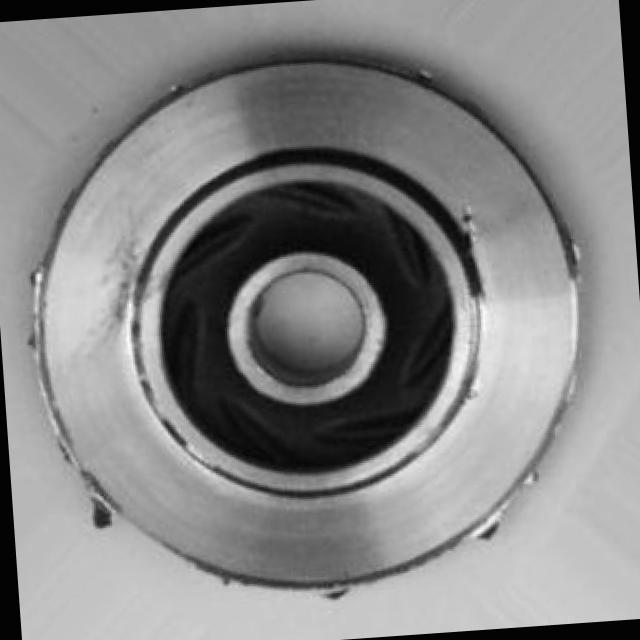Defect: (453, 201, 484, 244)
